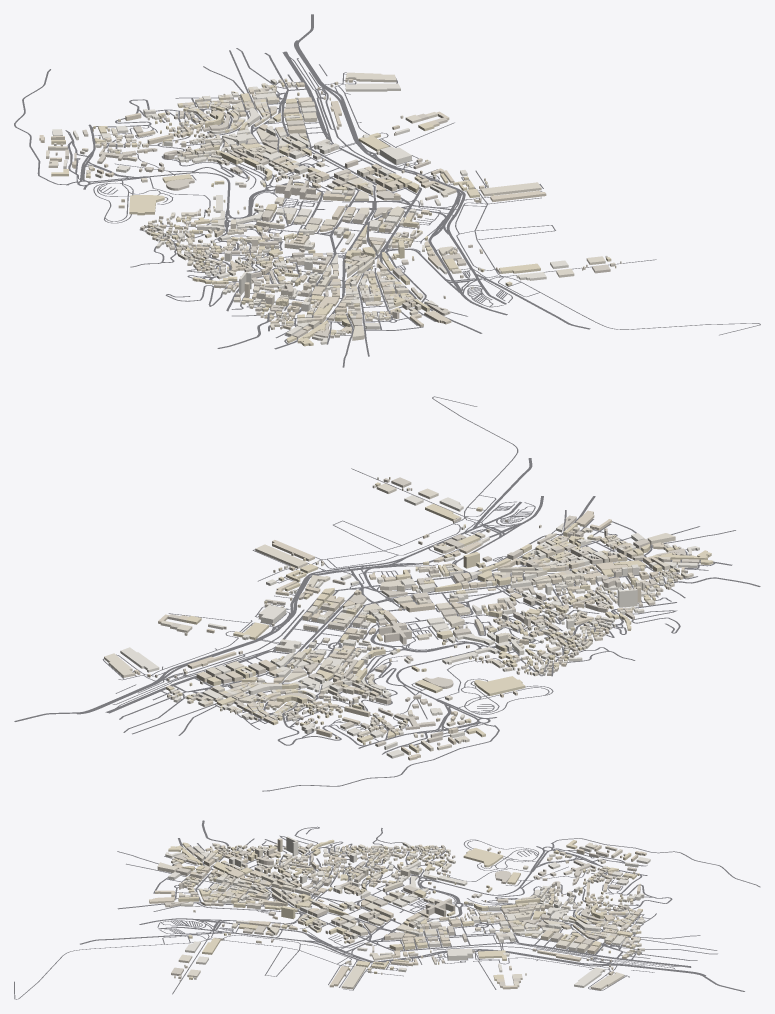
The model's file is alger_centre.glb.
The picture shows the model from 3 angles, top to bottom: view 1: azimuth 30°, elevation 25°; view 2: azimuth 150°, elevation 25°; view 3: azimuth 270°, elevation 25°; orthographic projection. The views are drawn at different scales.
Parts seen in each view (by area): view 1: roads, buildings_0-col, buildings_1-col, buildings_3-col, buildings_4-col, buildings_2-col; view 2: roads, buildings_0-col, buildings_1-col, buildings_4-col, buildings_3-col, buildings_2-col; view 3: roads, buildings_0-col, buildings_1-col, buildings_3-col, buildings_4-col, buildings_2-col.
Part boxes in pixels (x1,y1,x2,y2): roads: (14,14,760,367); buildings_0-col: (52,79,621,344); buildings_1-col: (46,72,605,340); buildings_3-col: (55,78,615,338); buildings_4-col: (51,79,611,346); buildings_2-col: (39,79,616,333); roads: (14,396,760,791); buildings_0-col: (120,477,699,758); buildings_1-col: (104,483,693,751); buildings_4-col: (168,482,713,753); buildings_3-col: (155,477,699,746); buildings_2-col: (134,477,684,760); roads: (14,820,760,999); buildings_0-col: (165,836,650,987); buildings_1-col: (157,842,643,990); buildings_3-col: (164,843,641,987); buildings_4-col: (168,839,642,980); buildings_2-col: (149,838,646,989).
Size of the model in its own units: 1715 by 60 by 3024.
